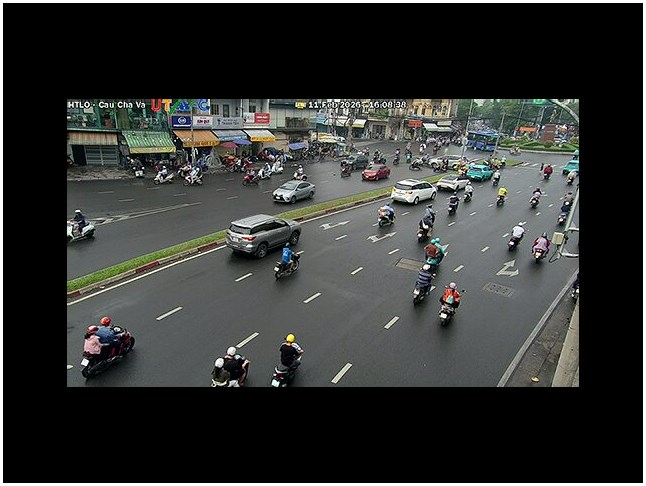car: (225, 212, 302, 259), (391, 178, 438, 205), (272, 177, 315, 203), (437, 175, 475, 203), (436, 176, 474, 196), (465, 163, 497, 183), (361, 164, 390, 182)
motorbike: (80, 324, 135, 379), (210, 351, 251, 387), (274, 243, 304, 279), (67, 211, 98, 243), (412, 267, 434, 304), (531, 234, 550, 260)
